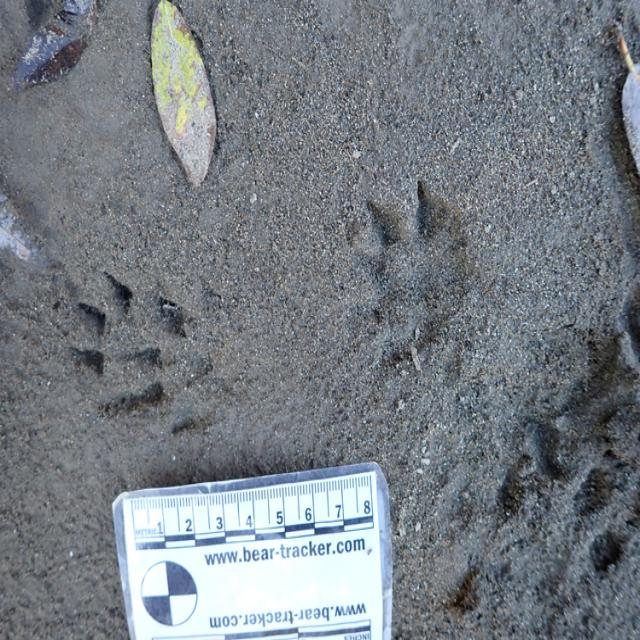mustelid: (72, 272, 237, 426), (365, 179, 477, 376)
